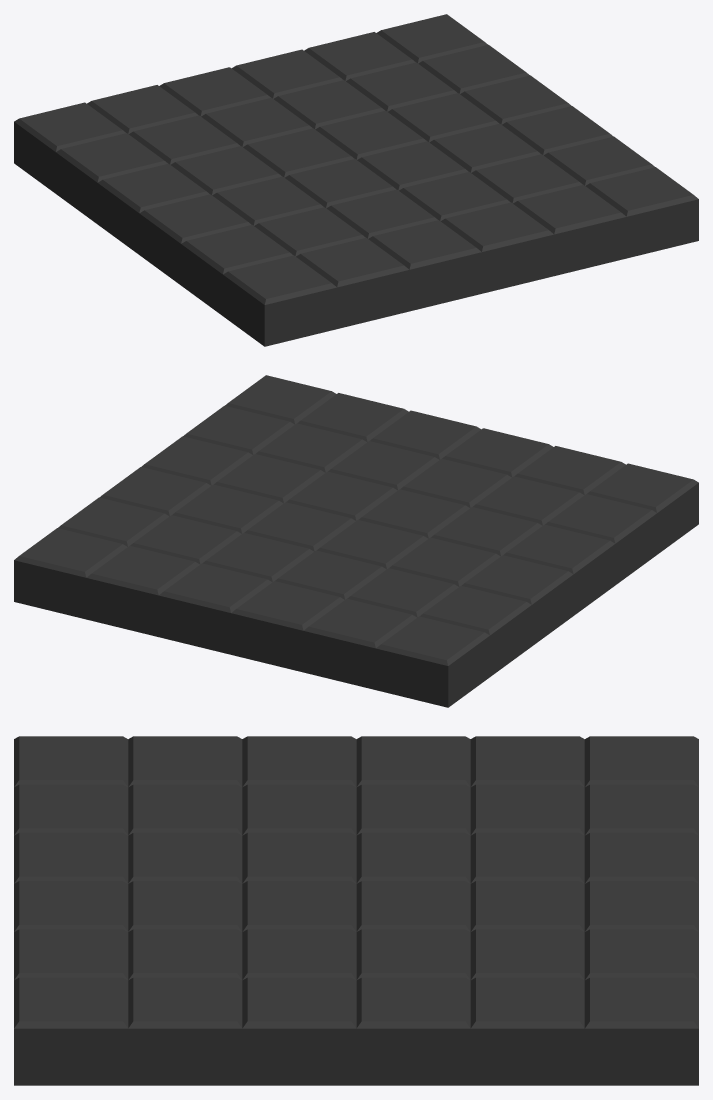
The model's file is Floor3.fbx.
3 renders of one model, top to bottom at view 1: azimuth 30°, elevation 25°; view 2: azimuth 150°, elevation 25°; view 3: azimuth 270°, elevation 25°, orthographic. The views are drawn at different scales.
Parts seen in each view (by area): view 1: Floor3; view 2: Floor3; view 3: Floor3.
Part boxes in pixels (box(x1,y1,x2,y2)): Floor3: box(14, 14, 698, 346); Floor3: box(14, 375, 698, 707); Floor3: box(14, 736, 698, 1085).
Size of the model in its own units: 200 by 20 by 200.
